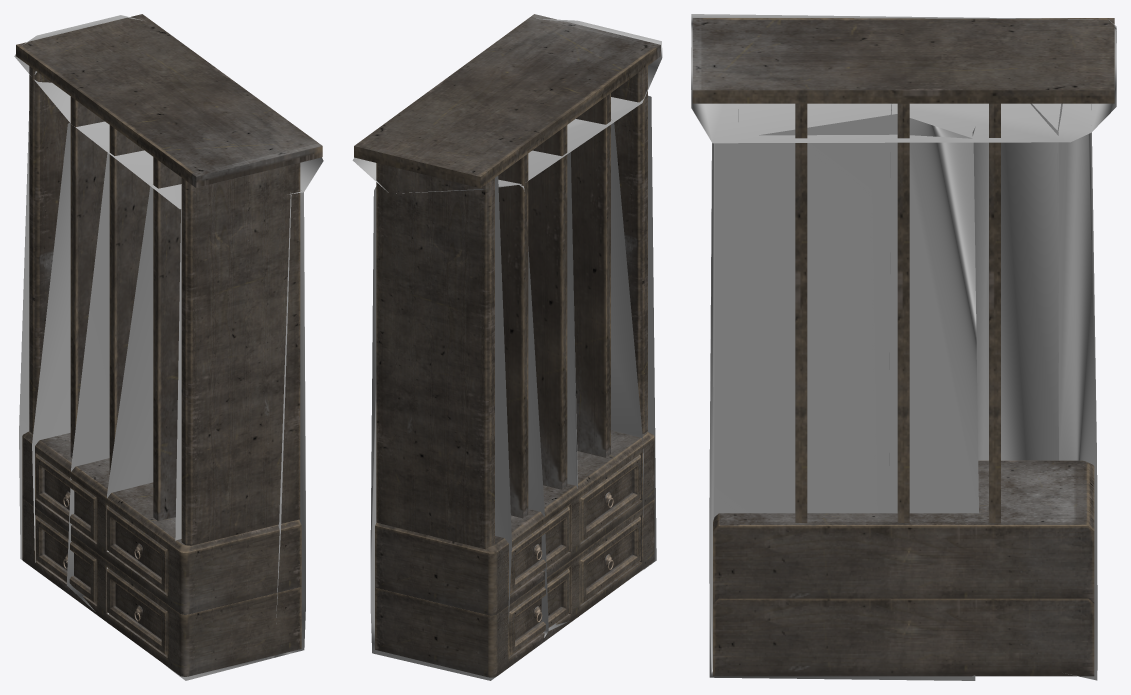
The model's file is SM_Small_Shelf.gltf.
3 views of the same model, side by side, from view 1: azimuth 30°, elevation 25°; view 2: azimuth 150°, elevation 25°; view 3: azimuth 270°, elevation 25° (orthographic). The views are drawn at different scales.
Parts seen in each view (by area): view 1: SM_Small_Shelf_LOD0, SM_Small_Shelf_ConvexHulls; view 2: SM_Small_Shelf_LOD0, SM_Small_Shelf_ConvexHulls; view 3: SM_Small_Shelf_ConvexHulls, SM_Small_Shelf_LOD0.
Boxes of the visible parts, box(x1,y1,x2,y2) form: SM_Small_Shelf_LOD0: box(16, 14, 322, 676); SM_Small_Shelf_ConvexHulls: box(14, 15, 323, 680); SM_Small_Shelf_LOD0: box(354, 14, 660, 677); SM_Small_Shelf_ConvexHulls: box(352, 18, 662, 680); SM_Small_Shelf_ConvexHulls: box(691, 14, 1116, 680); SM_Small_Shelf_LOD0: box(692, 18, 1114, 676).
Size of what is drawn, in the model's own units: 0.5284 by 1.91 by 1.23.
